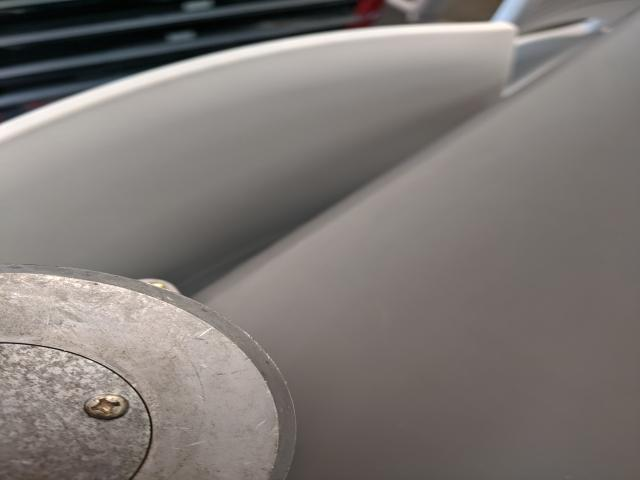CRS: (82, 394, 128, 420)
